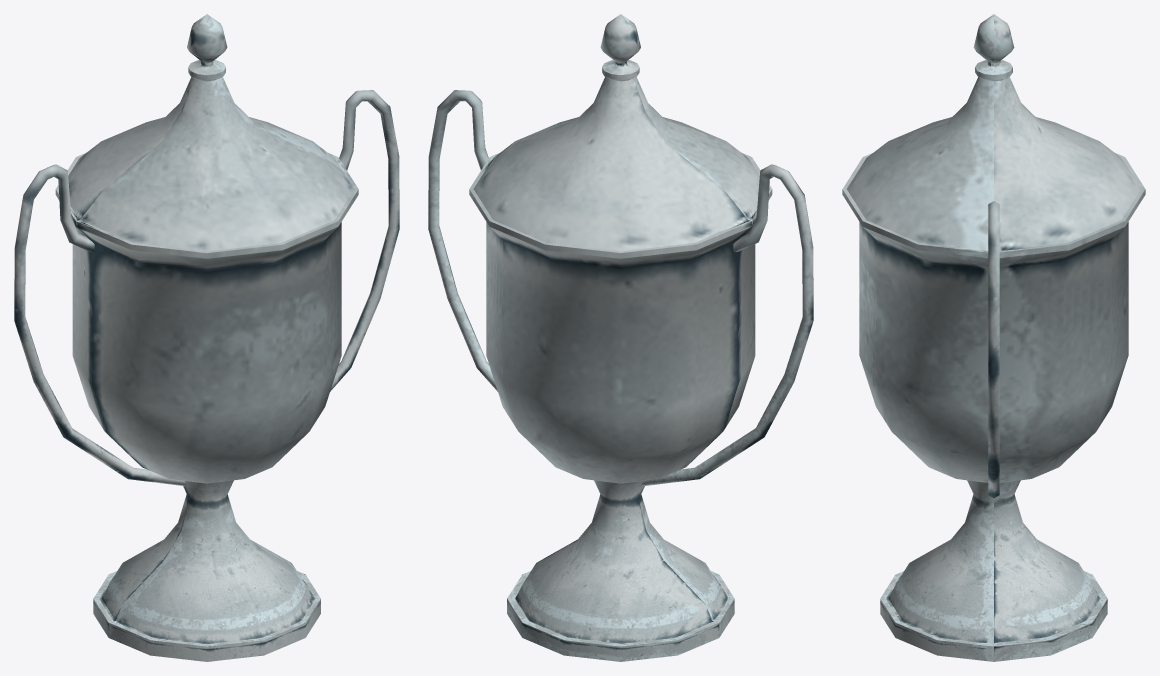
File: copaGenerica2.FBX
The picture shows the model from 3 angles, left to right: view 1: azimuth 30°, elevation 25°; view 2: azimuth 150°, elevation 25°; view 3: azimuth 270°, elevation 25°; orthographic projection.
Parts seen in each view (by area): view 1: copaGenerica2; view 2: copaGenerica2; view 3: copaGenerica2.
Part boxes in pixels (box(x1,y1,x2,y2)): copaGenerica2: box(14, 14, 399, 661); copaGenerica2: box(428, 14, 813, 661); copaGenerica2: box(842, 14, 1145, 661).
Size of the model in its own units: 86.98 by 129 by 59.21.
